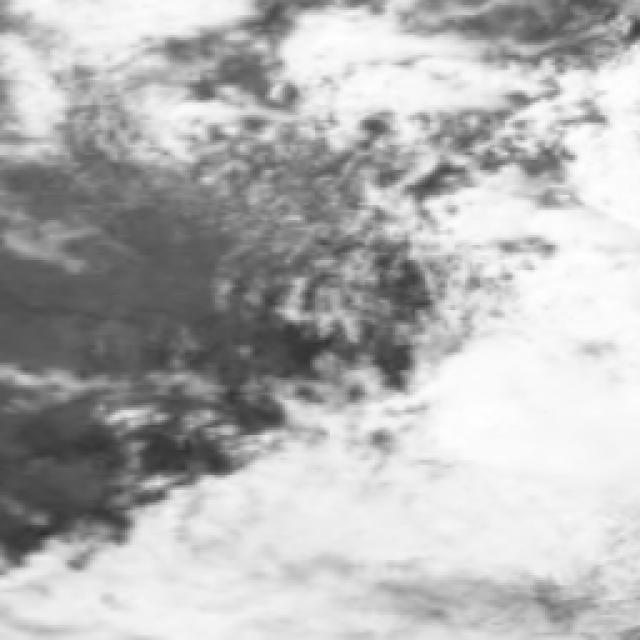CB: (467, 356, 640, 570), (251, 496, 602, 584)
